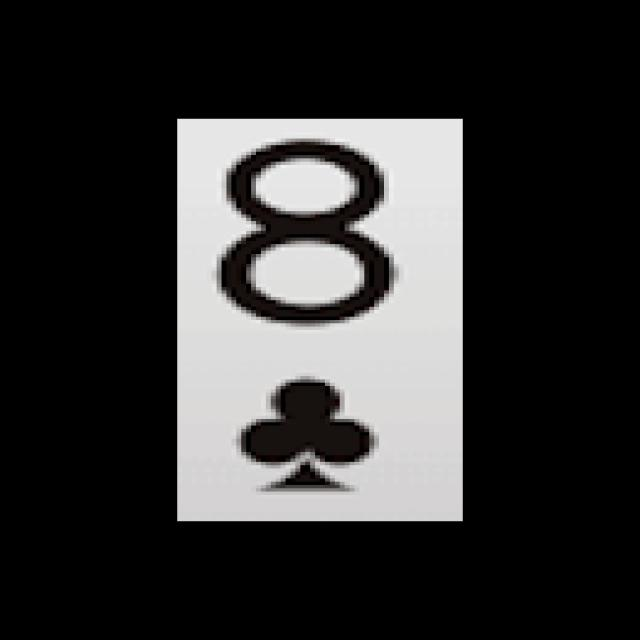8C: (195, 127, 429, 503)
